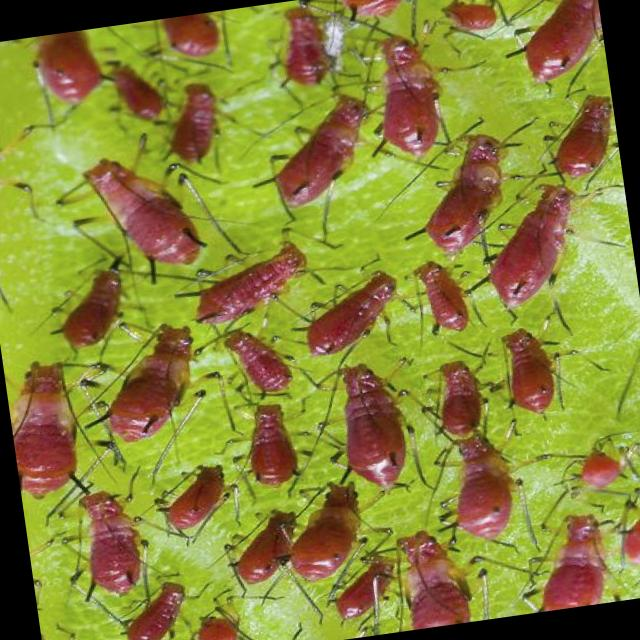Aphids: (52, 130, 246, 282), (36, 432, 186, 622), (442, 175, 616, 330), (230, 86, 406, 236), (315, 330, 441, 516), (164, 223, 344, 334), (408, 116, 529, 262), (488, 302, 590, 444), (206, 374, 314, 501)
